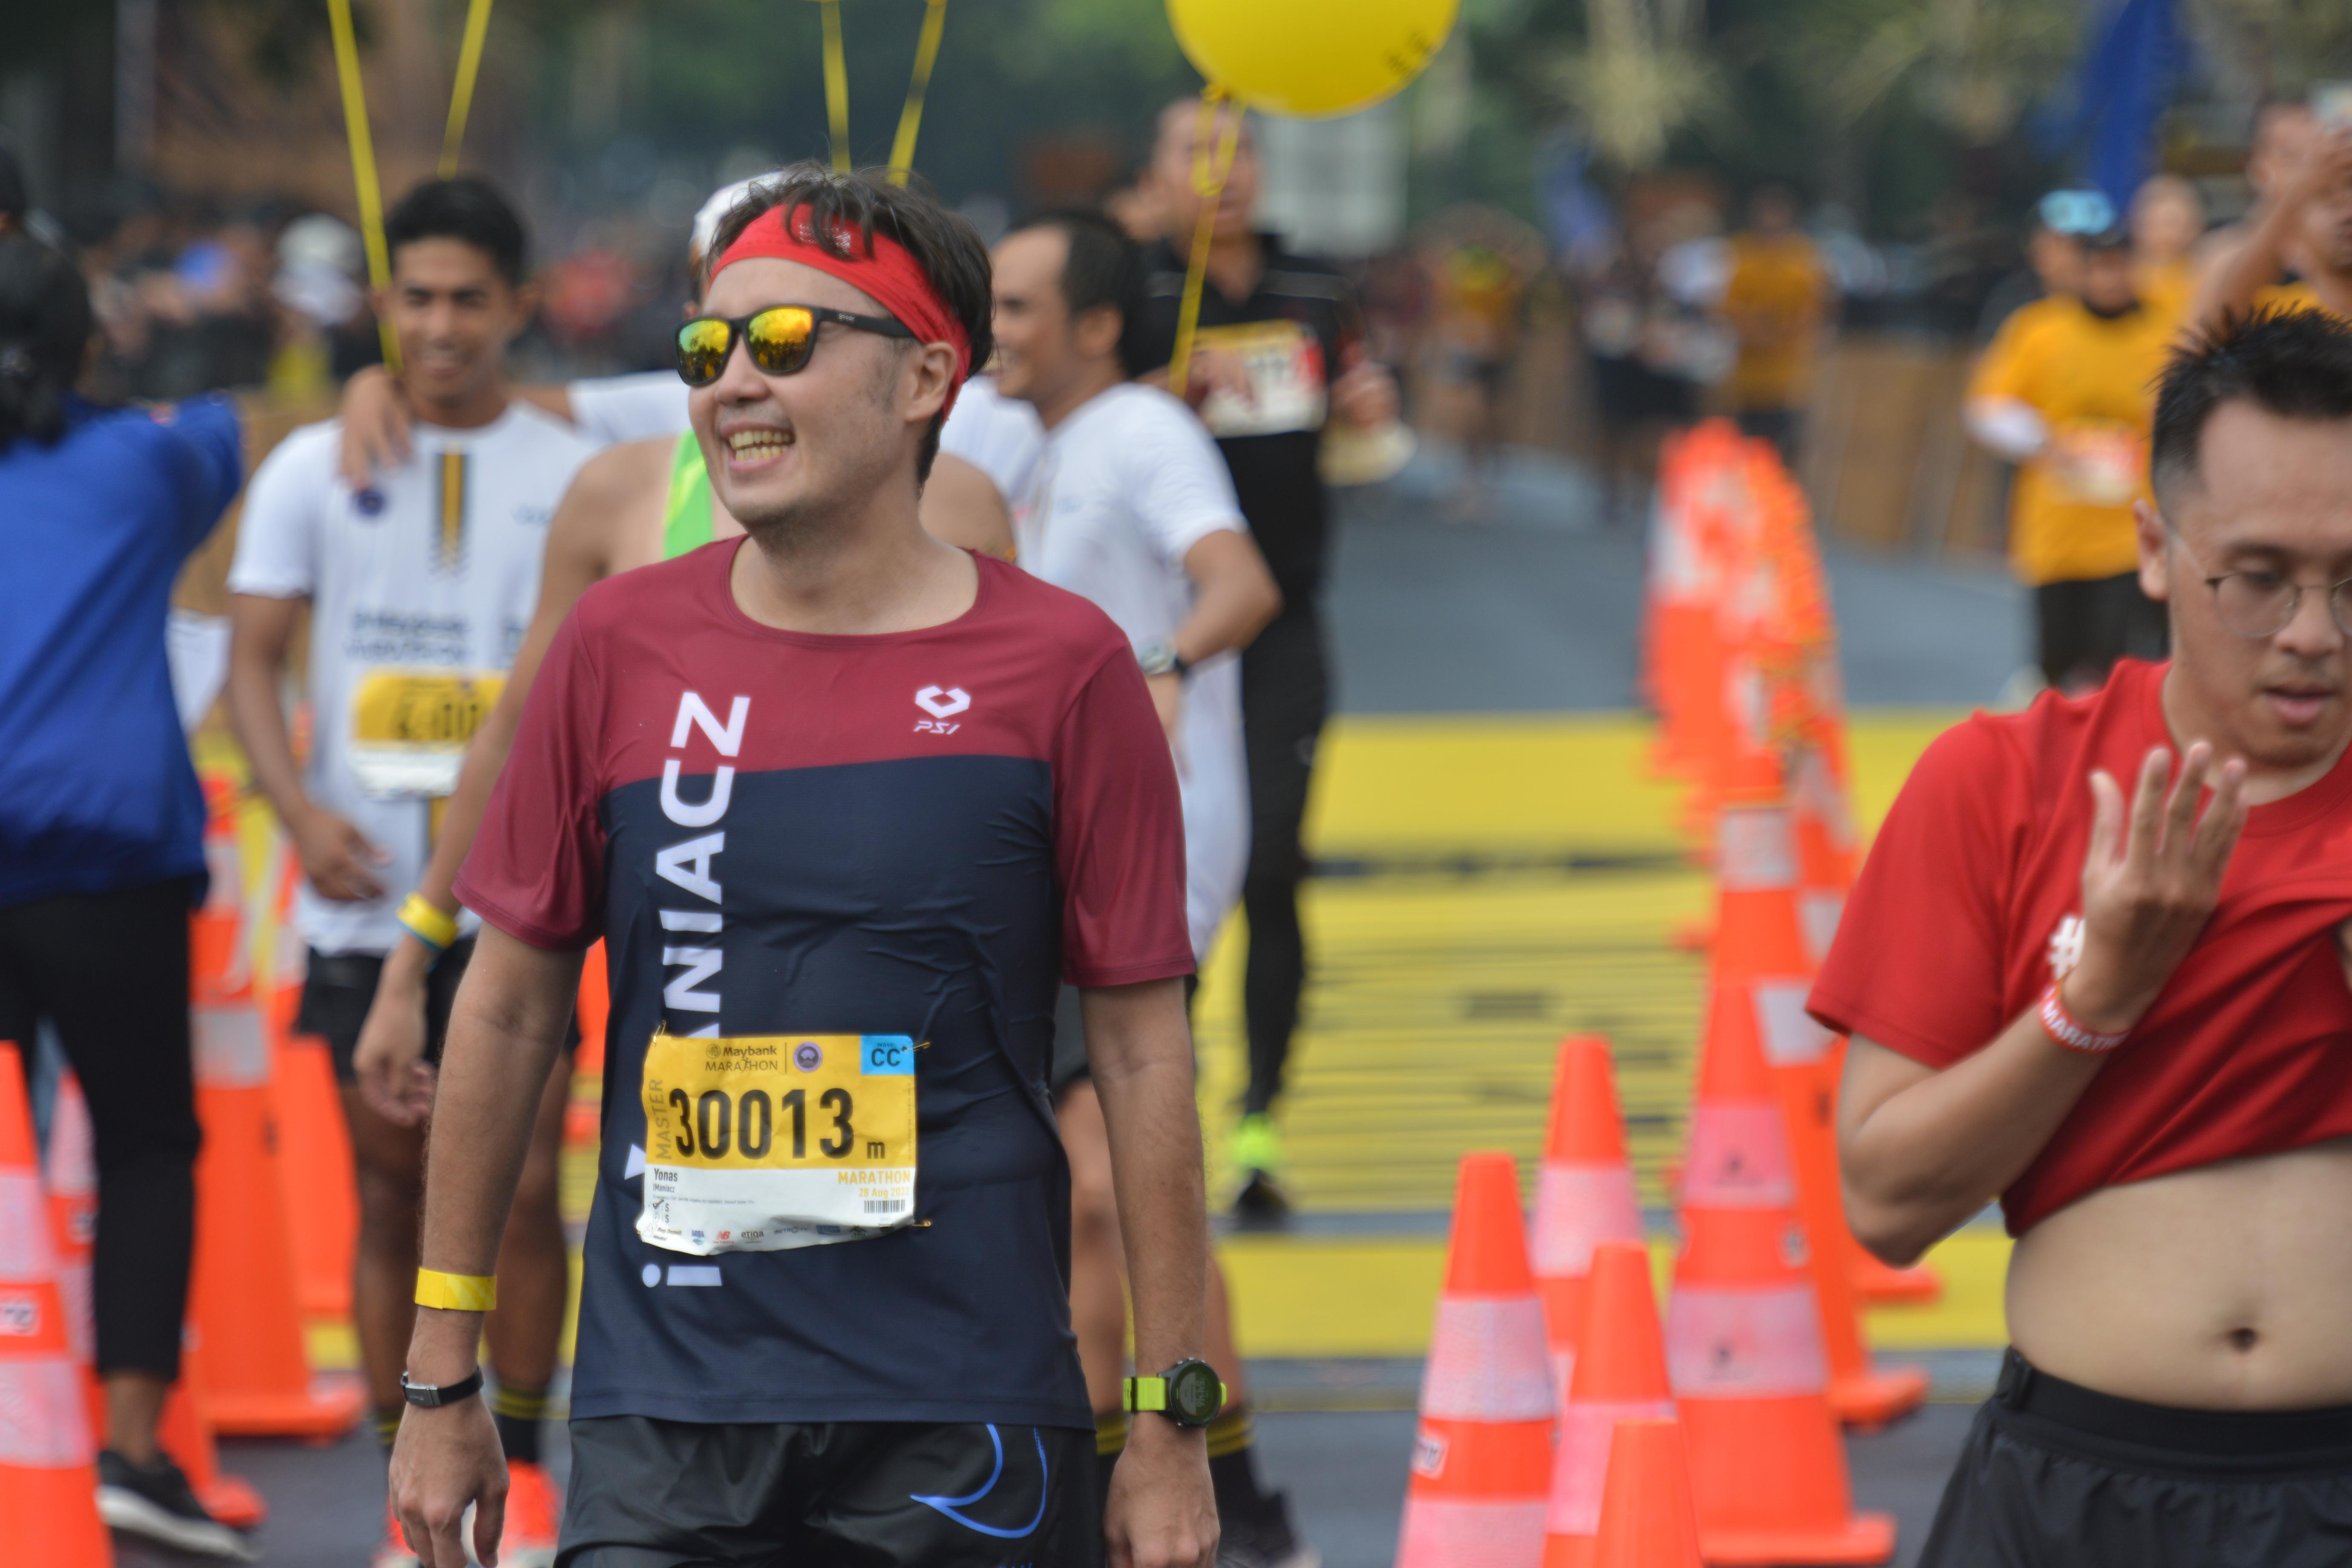bib: (649, 1024, 924, 1244), (1176, 324, 1328, 441), (359, 686, 502, 800)
